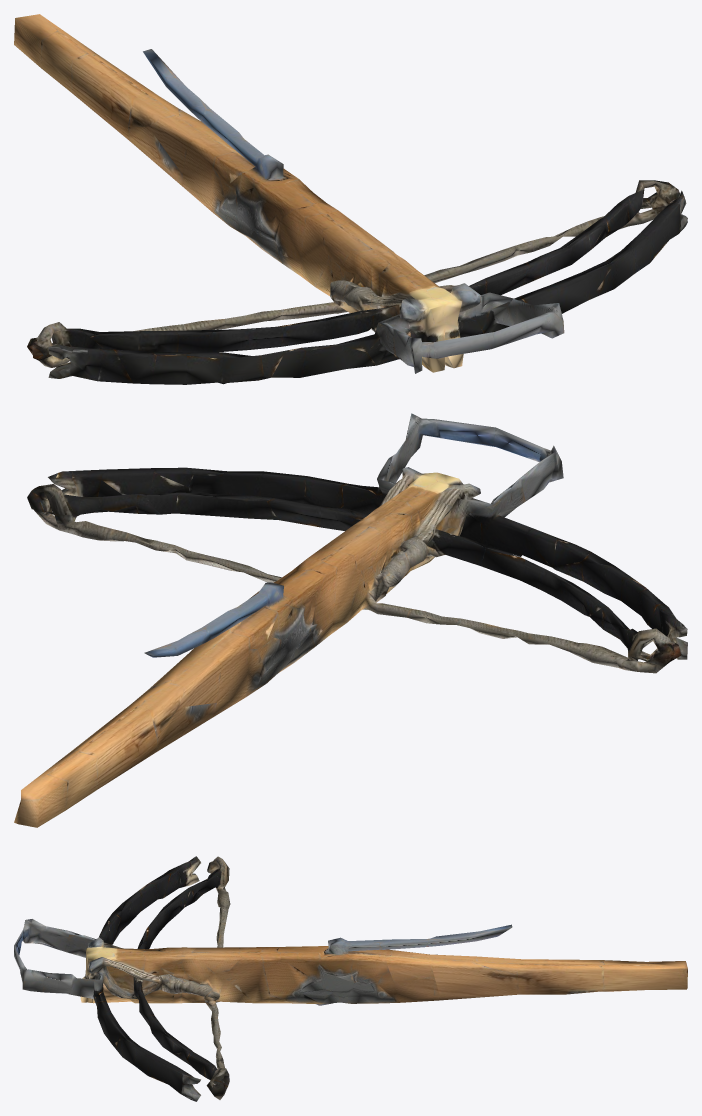
Rendered from 1133_crossbow.glb.
3 renders of one model, top to bottom at view 1: azimuth 30°, elevation 25°; view 2: azimuth 150°, elevation 25°; view 3: azimuth 270°, elevation 25°, orthographic. The views are drawn at different scales.
Parts seen in each view (by area): view 1: Model; view 2: Model; view 3: Model.
Part boxes in pixels (left/top/right/bottom): Model: left=14, top=14, right=687, bottom=384; Model: left=14, top=413, right=687, bottom=827; Model: left=14, top=856, right=687, bottom=1101.
Bounding box in the file's own units: 0.7974 × 0.1288 × 1.
1 material, 1 textured.
